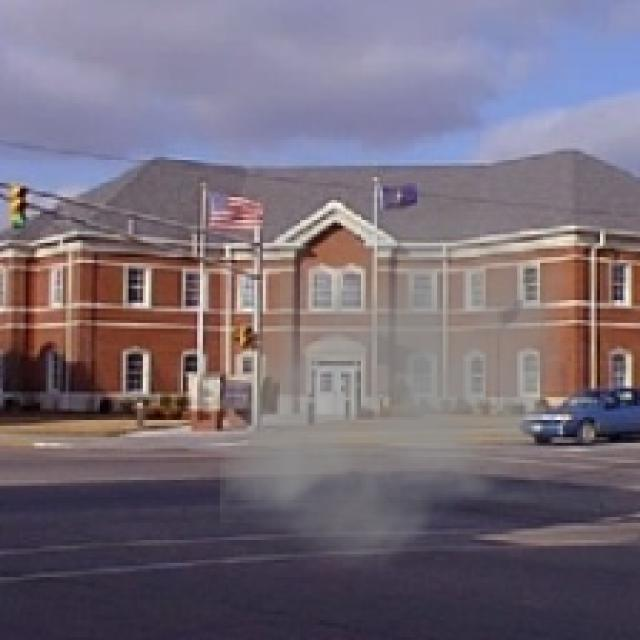smoke: (220, 211, 569, 583)
